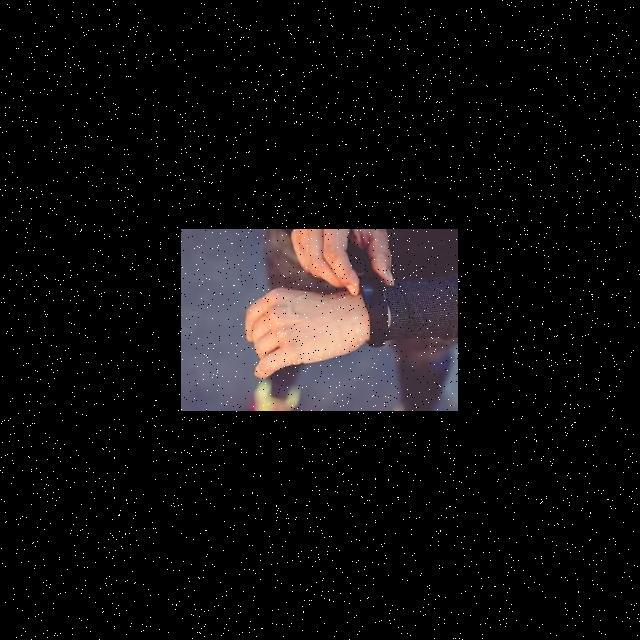watch: (342, 258, 417, 360)
